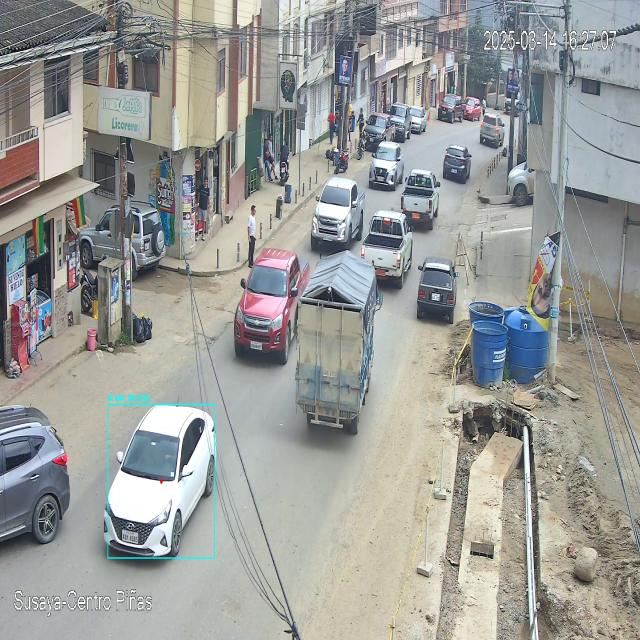CMT: (234, 248, 308, 368), (311, 175, 366, 251), (358, 210, 412, 284), (401, 171, 441, 232)
TRUCK: (298, 261, 377, 443)
